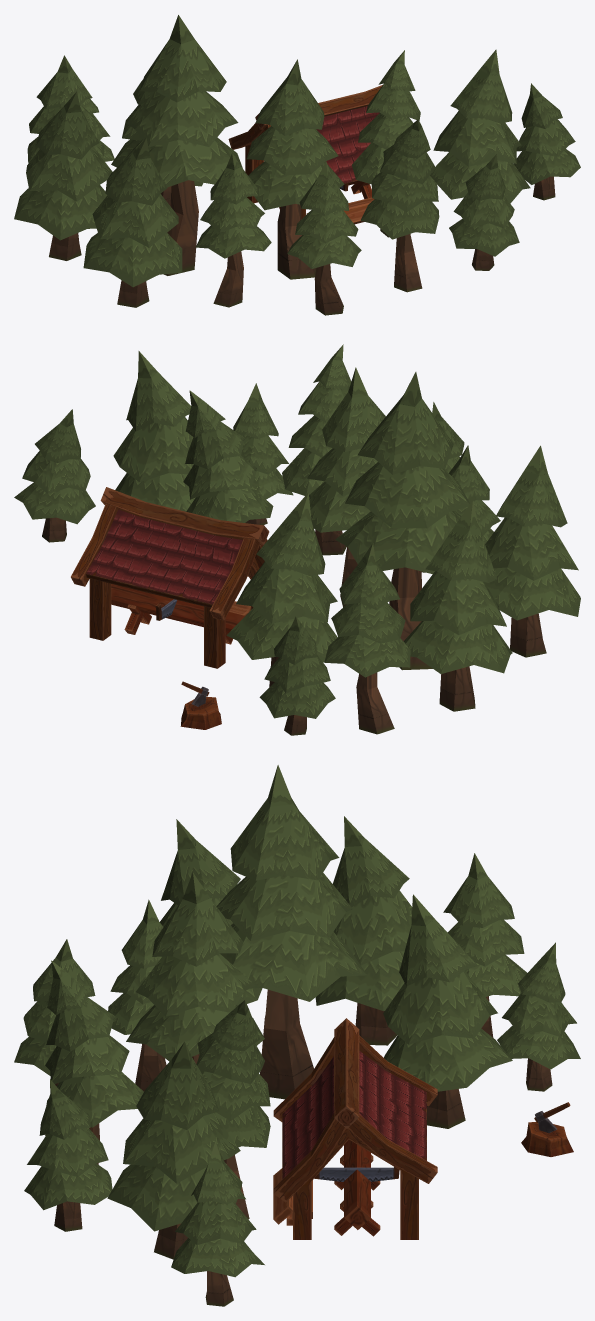
Rendered from cabin.glb.
3 views of the same model, one above another, from view 1: azimuth 30°, elevation 25°; view 2: azimuth 150°, elevation 25°; view 3: azimuth 270°, elevation 25° (orthographic). The views are drawn at different scales.
Visible parts, largest first — view 1: Cylinder.005, Circle.004, Cylinder.008, Circle.005, Circle.015, Cylinder.004, Cylinder.002, Cylinder.006, Circle.003, Circle.000, Cube.013, Cylinder.003 (+3 smaller); view 2: Cube.013, Cylinder.005, Circle.005, Circle.004, Circle.001, Cylinder.000, Circle.015, Cylinder.003, Cylinder.008, Circle.000, Circle.002, Cylinder.004 (+5 smaller); view 3: Cylinder.005, Cube.013, Circle.001, Circle.015, Cylinder.008, Circle.005, Cylinder.004, Circle.003, Cylinder.003, Circle.000, Cylinder.000, Circle.002 (+6 smaller).
Part boxes in pixels (x1,y1,x2,y2): Cylinder.005: [120, 15, 242, 275]; Circle.004: [83, 138, 182, 307]; Cylinder.008: [246, 59, 344, 279]; Circle.005: [14, 91, 112, 260]; Circle.015: [430, 49, 530, 203]; Cylinder.004: [360, 119, 439, 292]; Cylinder.002: [287, 161, 361, 315]; Cylinder.006: [195, 153, 271, 307]; Circle.003: [449, 154, 519, 270]; Circle.000: [513, 83, 580, 200]; Cube.013: [228, 85, 382, 219]; Cylinder.003: [352, 50, 420, 237]; Cube.013: [71, 487, 269, 668]; Cylinder.005: [335, 372, 469, 670]; Circle.005: [404, 500, 512, 711]; Circle.004: [484, 445, 580, 657]; Circle.001: [226, 492, 337, 686]; Cylinder.000: [324, 543, 410, 734]; Circle.015: [113, 351, 195, 511]; Cylinder.003: [183, 390, 273, 522]; Cylinder.008: [307, 367, 385, 607]; Circle.000: [14, 409, 95, 542]; Circle.002: [259, 616, 335, 735]; Cylinder.004: [282, 344, 351, 555]; Cylinder.005: [216, 765, 366, 1099]; Cube.013: [273, 1018, 437, 1239]; Circle.001: [383, 894, 512, 1128]; Circle.015: [107, 1041, 242, 1259]; Cylinder.008: [126, 872, 264, 1063]; Circle.005: [315, 816, 412, 1045]; Cylinder.004: [45, 960, 143, 1164]; Circle.003: [24, 1079, 112, 1231]; Cylinder.003: [196, 1000, 270, 1219]; Circle.000: [171, 1141, 264, 1306]; Cylinder.000: [443, 853, 526, 1037]; Circle.002: [497, 942, 580, 1091].
Bounding box in the file's own units: 2403 × 1203 × 1848.
Materials: 9 (9 with a texture image).
